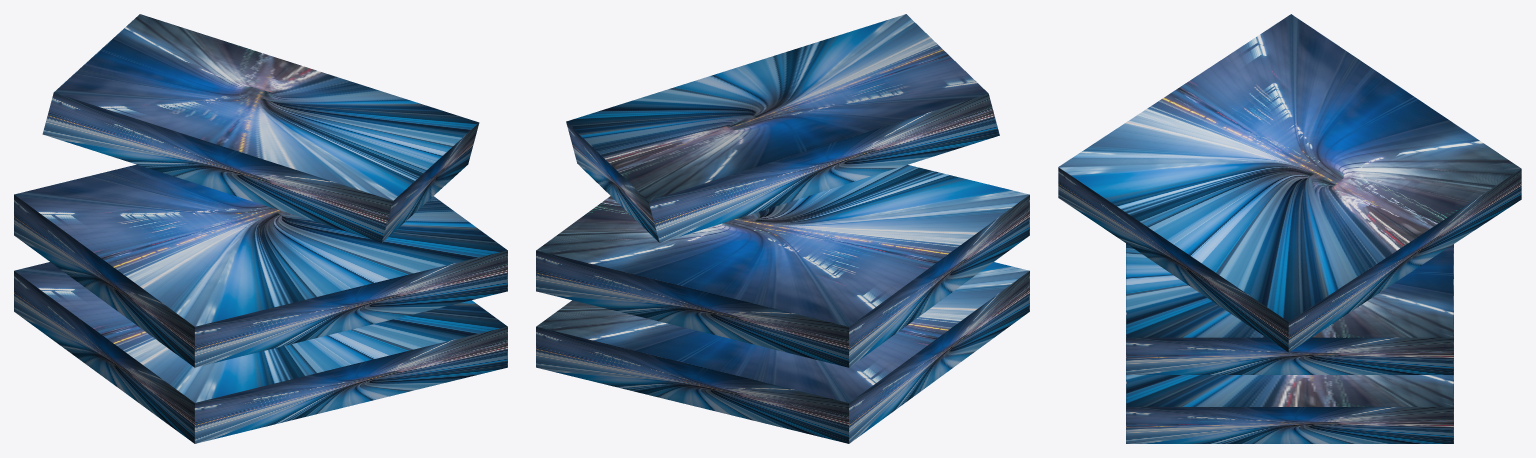
The picture shows the model from 3 angles, left to right: view 1: azimuth 30°, elevation 25°; view 2: azimuth 150°, elevation 25°; view 3: azimuth 270°, elevation 25°; orthographic projection. The views are drawn at different scales.
Parts seen in each view (by area): view 1: Cube.2; view 2: Cube.2; view 3: Cube.2.
Part boxes in pixels (bbox=[...]): Cube.2: bbox=[14, 14, 507, 443]; Cube.2: bbox=[536, 14, 1029, 443]; Cube.2: bbox=[1058, 14, 1521, 443].
Bounding box in the file's own units: 278 × 181 × 283.
1 material, 1 textured.
